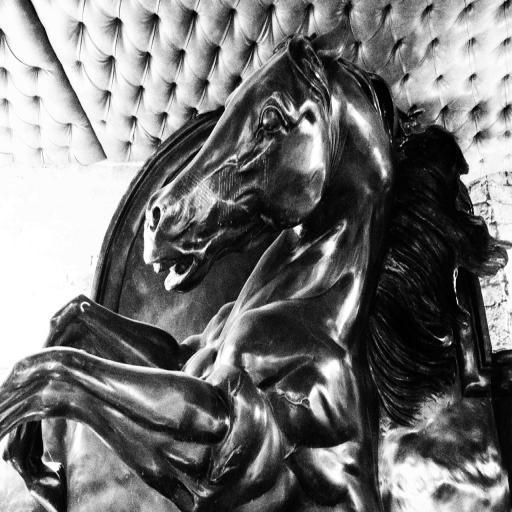horse: (0, 14, 512, 512)
